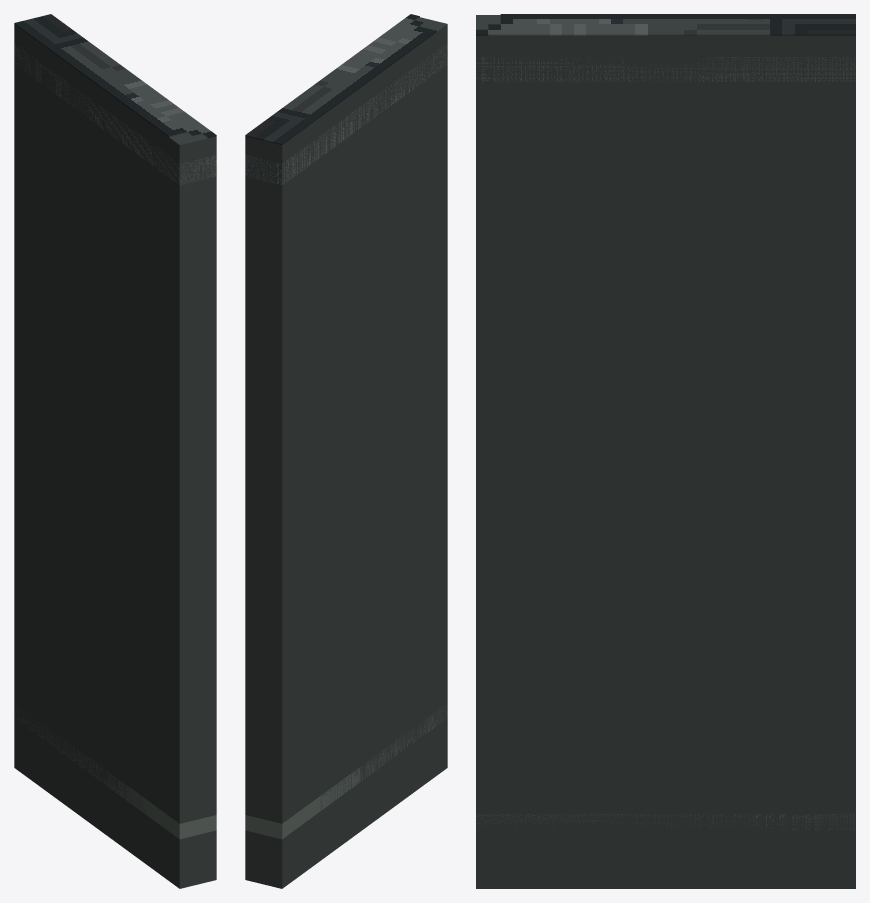
File: CMU3DInteriorVehicleTankBack1.glb
The picture shows the model from 3 angles, left to right: view 1: azimuth 30°, elevation 25°; view 2: azimuth 150°, elevation 25°; view 3: azimuth 270°, elevation 25°; orthographic projection. The views are drawn at different scales.
Parts seen in each view (by area): view 1: cabin bulkhead, cabin bulkhead source finish, lower armor trim, upper armor trim; view 2: cabin bulkhead, cabin bulkhead source finish, lower armor trim, upper armor trim; view 3: cabin bulkhead, cabin bulkhead source finish, upper armor trim, lower armor trim.
Boxes of the visible parts, x1=… form: cabin bulkhead: x1=14, y1=24, x2=216, y2=888; cabin bulkhead source finish: x1=14, y1=14, x2=216, y2=138; lower armor trim: x1=14, y1=708, x2=216, y2=839; upper armor trim: x1=15, y1=44, x2=216, y2=184; cabin bulkhead: x1=245, y1=17, x2=447, y2=888; cabin bulkhead source finish: x1=245, y1=14, x2=436, y2=144; lower armor trim: x1=245, y1=709, x2=447, y2=839; upper armor trim: x1=245, y1=45, x2=447, y2=184; cabin bulkhead: x1=476, y1=15, x2=855, y2=888; cabin bulkhead source finish: x1=476, y1=14, x2=855, y2=35; upper armor trim: x1=476, y1=57, x2=855, y2=81; lower armor trim: x1=476, y1=814, x2=854, y2=831.
Size of the model in its own units: 0.125 by 2.4 by 0.9688.
Materials: 4 (1 with a texture image).
